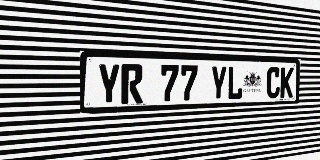7: (159, 65, 179, 103), (179, 65, 198, 102)
C: (266, 67, 281, 98)
K: (280, 67, 294, 98)
L: (227, 66, 243, 100)
R: (121, 64, 143, 104)
Y: (97, 63, 120, 105), (210, 66, 227, 101)
